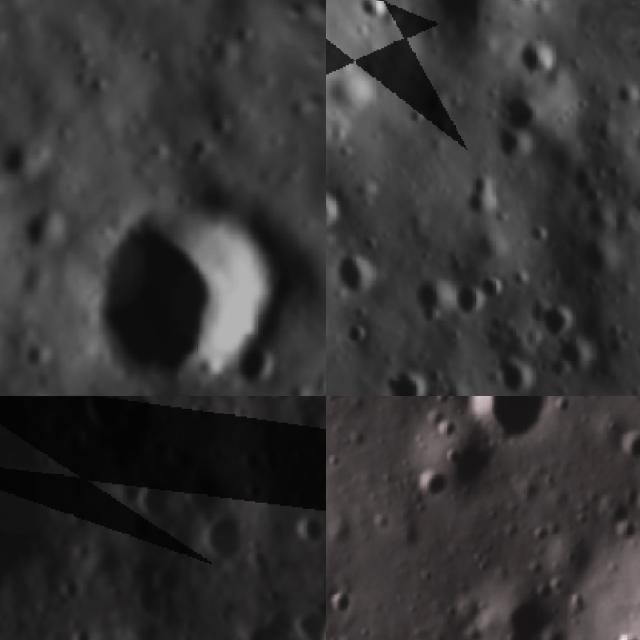crater: (70, 174, 316, 396), (336, 0, 576, 43), (399, 254, 476, 332), (326, 225, 399, 305), (444, 157, 520, 233), (540, 320, 613, 393), (482, 76, 554, 150), (185, 505, 256, 577), (520, 282, 587, 350), (121, 467, 186, 532), (568, 223, 631, 289), (441, 264, 504, 328), (64, 396, 150, 442), (228, 335, 298, 391), (478, 340, 546, 396), (0, 128, 65, 186), (9, 200, 74, 258), (464, 396, 555, 437), (509, 24, 567, 86), (370, 354, 444, 396), (574, 190, 628, 242), (326, 168, 357, 248), (333, 308, 382, 354), (618, 98, 640, 200), (517, 214, 562, 258), (556, 158, 600, 203), (286, 506, 326, 555), (400, 97, 438, 136), (349, 0, 398, 29), (235, 474, 271, 511), (328, 588, 353, 616), (416, 468, 444, 492), (620, 429, 640, 456), (497, 388, 537, 396), (616, 630, 638, 640)
